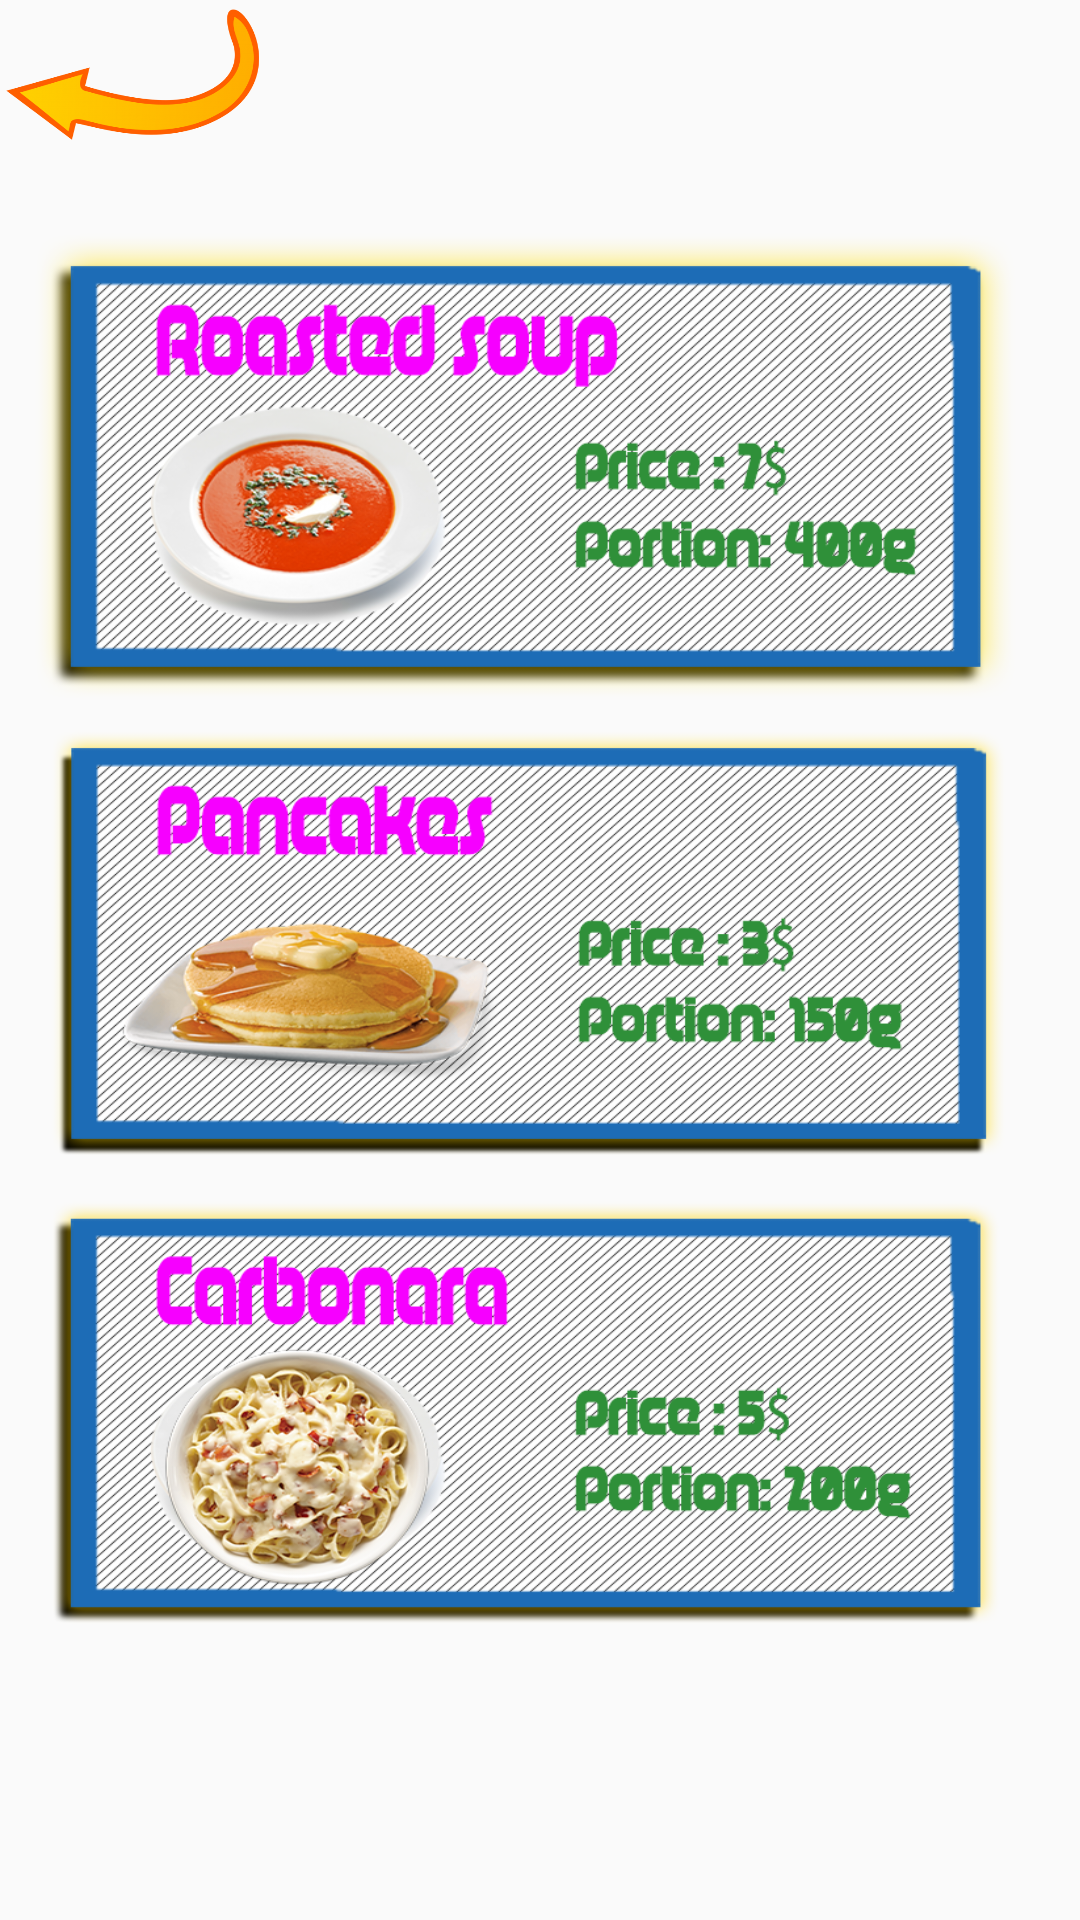

Icon click points for this 1080 × 1920 phone screenshot, format (x,y):
arrowbutton: (132,74)
